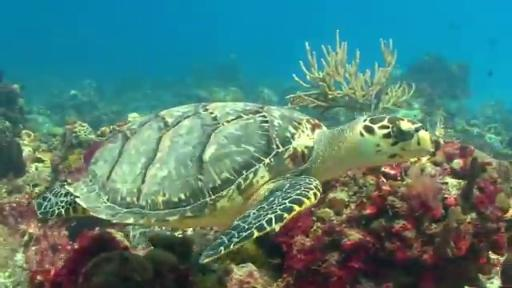Fish: (36, 103, 433, 262)
